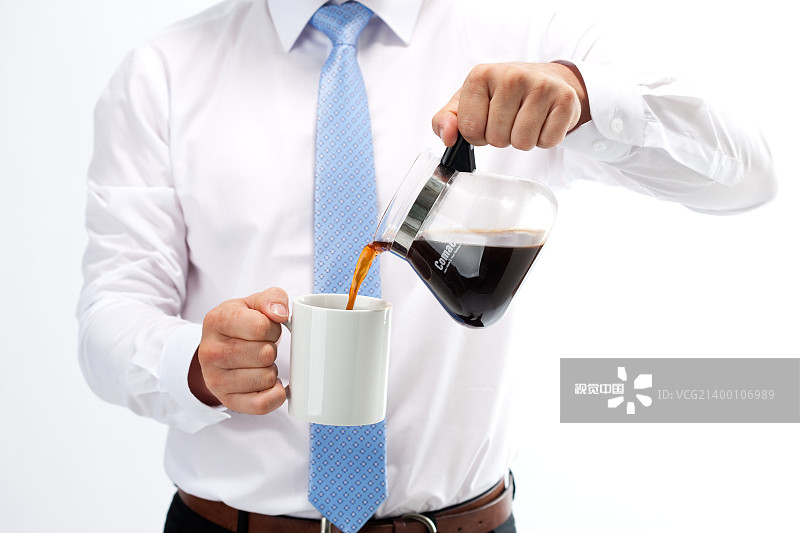no-phone: (185, 268, 319, 424), (412, 46, 595, 160)
